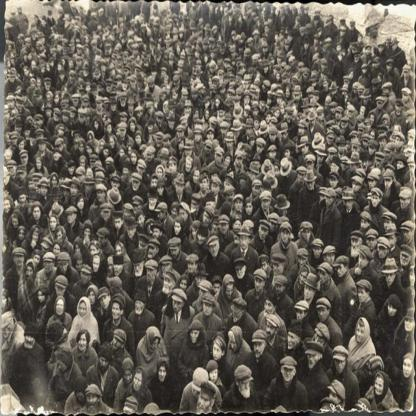face: (309, 351, 321, 368), (88, 394, 99, 412), (375, 377, 385, 396), (329, 392, 341, 407), (267, 321, 277, 339), (404, 360, 414, 378), (336, 358, 347, 374), (284, 367, 295, 382), (300, 267, 309, 285), (100, 356, 110, 372), (255, 342, 264, 359), (56, 283, 66, 298), (201, 396, 211, 411), (319, 307, 329, 322), (265, 301, 275, 316), (274, 261, 284, 276), (359, 289, 369, 304), (113, 304, 122, 320), (358, 324, 366, 342), (289, 333, 298, 349), (135, 301, 145, 315), (173, 299, 183, 313), (191, 330, 201, 344), (241, 381, 251, 395), (209, 371, 219, 385), (405, 319, 415, 333), (134, 373, 142, 390), (214, 344, 222, 361), (352, 239, 361, 254), (316, 332, 325, 347), (58, 360, 68, 373), (360, 253, 368, 269), (26, 332, 35, 346), (57, 299, 64, 317), (101, 295, 110, 309), (211, 243, 220, 257), (386, 273, 395, 287), (372, 194, 381, 208), (80, 303, 88, 318), (255, 277, 263, 292), (306, 285, 314, 300), (401, 252, 409, 267), (404, 228, 412, 243), (160, 366, 167, 382), (80, 337, 88, 351), (165, 278, 173, 292), (89, 291, 97, 305), (93, 258, 101, 272), (77, 392, 85, 406), (200, 287, 208, 301), (204, 302, 212, 316), (230, 339, 238, 353), (388, 303, 396, 317), (385, 218, 393, 232), (389, 234, 397, 248), (241, 236, 249, 250), (180, 209, 188, 223), (234, 311, 244, 322), (82, 272, 90, 285), (125, 370, 133, 383), (226, 284, 234, 297), (114, 337, 121, 351), (362, 217, 369, 231), (304, 229, 311, 243), (235, 220, 242, 234), (38, 291, 46, 303), (150, 246, 158, 258), (188, 261, 196, 273), (297, 309, 305, 321), (321, 272, 329, 284), (327, 254, 335, 266), (263, 199, 271, 211), (260, 227, 268, 239), (235, 200, 243, 212), (115, 220, 123, 232), (175, 222, 182, 235), (60, 264, 69, 274), (16, 255, 24, 266), (46, 263, 54, 274), (115, 265, 123, 276), (197, 277, 205, 288), (339, 267, 347, 278), (270, 222, 278, 233), (220, 222, 228, 233), (34, 209, 42, 220), (411, 269, 416, 286), (27, 267, 34, 279), (129, 227, 136, 239), (140, 242, 147, 254), (261, 261, 268, 273), (277, 282, 284, 294), (380, 247, 387, 259), (401, 198, 408, 210), (346, 198, 353, 210), (282, 232, 289, 244), (247, 203, 254, 215), (212, 183, 219, 195), (194, 171, 200, 185), (193, 227, 200, 239), (125, 209, 132, 221), (237, 269, 246, 278), (172, 249, 180, 259), (353, 183, 361, 193), (330, 178, 338, 188), (253, 186, 261, 196), (103, 211, 111, 221), (153, 338, 160, 349), (34, 255, 41, 266), (136, 263, 143, 274), (92, 246, 99, 257), (54, 245, 61, 256), (100, 236, 107, 247), (369, 181, 376, 192), (201, 180, 208, 191), (199, 234, 206, 245), (177, 183, 184, 194), (71, 185, 78, 196), (133, 180, 140, 191), (98, 191, 105, 202), (161, 157, 168, 168), (148, 270, 154, 282), (163, 265, 171, 274), (117, 245, 123, 257), (299, 257, 307, 266), (307, 181, 315, 190), (79, 198, 85, 210), (4, 201, 10, 213), (42, 245, 49, 255), (385, 180, 392, 190), (398, 161, 405, 171), (41, 186, 48, 196), (20, 196, 27, 206), (33, 179, 40, 189), (134, 204, 141, 214), (251, 172, 258, 182), (37, 134, 44, 144), (253, 161, 260, 171), (1, 295, 8, 305), (97, 181, 104, 191), (154, 228, 160, 239), (33, 231, 39, 242), (77, 259, 83, 270), (182, 280, 188, 291), (215, 283, 221, 294), (299, 173, 305, 184), (397, 136, 403, 147), (159, 212, 165, 223), (3, 327, 9, 338), (108, 260, 113, 273), (32, 91, 37, 104), (9, 167, 17, 175), (326, 197, 333, 206), (308, 163, 315, 172), (193, 202, 200, 211), (68, 214, 75, 223), (86, 185, 93, 194), (19, 172, 26, 181), (207, 202, 214, 211), (78, 174, 85, 183), (6, 154, 13, 163), (57, 232, 63, 242), (315, 248, 321, 258), (369, 239, 375, 249), (332, 164, 338, 174), (282, 206, 287, 218), (225, 181, 231, 191), (187, 161, 192, 173), (52, 177, 58, 187), (113, 180, 119, 190), (179, 140, 185, 150), (110, 139, 116, 149), (274, 166, 280, 176), (287, 112, 293, 122), (158, 138, 164, 148), (148, 225, 154, 235), (31, 136, 37, 146), (80, 114, 86, 124), (362, 161, 368, 171), (104, 28, 110, 38), (186, 149, 193, 157), (9, 100, 16, 108), (16, 126, 23, 134), (228, 194, 235, 202), (194, 385, 201, 393), (20, 230, 25, 241), (205, 212, 210, 223), (217, 153, 222, 164), (37, 160, 42, 171), (132, 154, 137, 165), (51, 223, 57, 232), (376, 159, 382, 168), (348, 110, 354, 119), (403, 94, 409, 103), (170, 164, 176, 173), (206, 146, 212, 155), (228, 141, 234, 150), (237, 157, 243, 166), (228, 173, 234, 182), (70, 167, 76, 176), (22, 157, 28, 166), (150, 199, 156, 208), (152, 179, 158, 188), (158, 169, 164, 178), (139, 167, 145, 176), (235, 129, 241, 138), (87, 146, 93, 155), (340, 145, 346, 154), (387, 150, 393, 159), (300, 126, 306, 135), (157, 117, 163, 126), (120, 129, 126, 138), (138, 219, 144, 228), (63, 114, 69, 123), (5, 112, 11, 121), (77, 59, 83, 68), (105, 55, 111, 64), (264, 66, 270, 75), (225, 61, 231, 70), (3, 177, 9, 186), (87, 170, 93, 179), (243, 150, 249, 159), (264, 188, 270, 197), (37, 43, 43, 52), (76, 246, 81, 256), (86, 228, 91, 238), (370, 115, 375, 125), (370, 146, 375, 156), (173, 209, 178, 219), (196, 133, 201, 143), (256, 120, 261, 130), (105, 148, 110, 158), (371, 131, 376, 141), (149, 152, 154, 162), (214, 223, 219, 233), (117, 128, 122, 138), (12, 222, 19, 229), (302, 148, 309, 155), (330, 153, 336, 161), (285, 151, 291, 159), (258, 146, 264, 154), (343, 162, 349, 170), (351, 164, 357, 172), (30, 201, 36, 209), (124, 168, 130, 176), (219, 111, 225, 119), (222, 128, 228, 136), (12, 138, 18, 146), (37, 120, 43, 128), (352, 137, 358, 145), (323, 82, 329, 90), (179, 131, 185, 139), (169, 121, 175, 129), (111, 103, 117, 111), (97, 103, 103, 111), (58, 144, 64, 152), (228, 93, 234, 101), (205, 102, 211, 110), (131, 80, 137, 88), (245, 97, 251, 105), (24, 70, 30, 78), (106, 48, 112, 56), (253, 109, 259, 117), (366, 123, 371, 132), (226, 157, 231, 166), (159, 186, 164, 195), (266, 114, 271, 123), (381, 139, 386, 148), (281, 106, 286, 115), (55, 96, 60, 105), (18, 101, 23, 110), (25, 131, 30, 140), (7, 137, 12, 146), (75, 137, 80, 146), (85, 69, 90, 78), (216, 100, 221, 109), (381, 132, 386, 141), (410, 164, 415, 173), (237, 76, 242, 85), (181, 51, 186, 60), (96, 56, 101, 65), (318, 156, 324, 163), (336, 113, 342, 120), (240, 178, 246, 185), (208, 134, 214, 141), (54, 153, 60, 160), (271, 135, 277, 142), (164, 139, 170, 146), (121, 100, 127, 107), (120, 150, 126, 157), (148, 107, 154, 114), (364, 98, 370, 105), (82, 30, 88, 37), (224, 78, 230, 85), (363, 141, 369, 148), (174, 180, 180, 187), (357, 176, 363, 183), (101, 65, 107, 72), (329, 137, 334, 145), (29, 183, 34, 191), (186, 108, 191, 116), (81, 159, 86, 167), (40, 143, 45, 151), (283, 132, 288, 140), (137, 137, 142, 145), (142, 151, 147, 159), (149, 125, 154, 133), (108, 126, 113, 134), (94, 123, 99, 131), (55, 112, 60, 120), (71, 111, 76, 119), (74, 99, 79, 107), (184, 94, 189, 102), (124, 56, 129, 64), (70, 74, 75, 82), (78, 48, 83, 56), (58, 65, 63, 73), (110, 70, 115, 78), (111, 34, 116, 42), (175, 82, 180, 90), (170, 59, 175, 67), (241, 67, 246, 75), (313, 71, 318, 79), (343, 122, 348, 130), (263, 85, 268, 93), (294, 87, 298, 97), (211, 65, 216, 73), (120, 24, 125, 32), (5, 32, 10, 40), (270, 151, 276, 157), (80, 144, 84, 153), (101, 142, 105, 151), (103, 114, 107, 123), (91, 162, 97, 168), (161, 95, 167, 101), (206, 111, 210, 120), (262, 101, 266, 110), (125, 71, 131, 77), (41, 68, 47, 74), (327, 100, 331, 109), (352, 147, 358, 153), (63, 189, 69, 195), (256, 85, 260, 94), (254, 95, 260, 101), (303, 99, 309, 105), (230, 45, 236, 51), (63, 100, 67, 109), (397, 106, 402, 113), (378, 103, 383, 110), (319, 114, 324, 121), (20, 144, 25, 151), (46, 83, 51, 90), (315, 95, 320, 102), (296, 94, 301, 101), (311, 119, 316, 126), (275, 111, 280, 118), (250, 139, 255, 146), (211, 123, 216, 130), (138, 112, 143, 119), (89, 136, 94, 143), (47, 111, 52, 118), (47, 95, 52, 102), (84, 101, 89, 108), (173, 93, 178, 100), (359, 92, 364, 99), (388, 65, 393, 72), (404, 71, 409, 78), (37, 82, 42, 89), (136, 69, 141, 76), (71, 45, 76, 52), (69, 62, 74, 69), (28, 42, 33, 49), (58, 46, 63, 53), (179, 67, 184, 74), (134, 49, 139, 56), (196, 51, 201, 58), (291, 62, 296, 69), (409, 152, 414, 159), (369, 162, 374, 169), (328, 128, 333, 135), (54, 197, 59, 204), (292, 107, 297, 114), (253, 58, 258, 65), (197, 61, 202, 68), (179, 60, 184, 67), (167, 42, 172, 49), (123, 84, 128, 91), (287, 90, 291, 98), (129, 149, 133, 157), (60, 128, 64, 136), (165, 106, 169, 114), (350, 72, 354, 80), (32, 62, 36, 70), (29, 53, 33, 61), (92, 44, 96, 52), (155, 27, 159, 35), (277, 74, 281, 82), (205, 57, 209, 65), (404, 149, 408, 157), (221, 47, 225, 55), (196, 67, 200, 75), (304, 108, 309, 114), (285, 172, 290, 178), (213, 174, 218, 180), (130, 106, 135, 112), (149, 84, 155, 89), (221, 88, 226, 94), (278, 57, 283, 63), (384, 89, 389, 95), (60, 179, 65, 185), (263, 133, 268, 139), (248, 128, 253, 134), (409, 116, 414, 122), (321, 72, 326, 78), (408, 60, 413, 66), (341, 31, 346, 37), (286, 45, 291, 51), (263, 49, 268, 55), (254, 31, 260, 36), (209, 42, 214, 48), (218, 60, 223, 66), (196, 124, 202, 129), (169, 53, 175, 58), (113, 54, 118, 60), (81, 92, 86, 98), (61, 75, 66, 81), (37, 96, 43, 101), (40, 37, 45, 43), (76, 19, 81, 25), (42, 48, 47, 54), (184, 87, 189, 93), (332, 107, 336, 114), (361, 110, 365, 117), (310, 93, 314, 100), (131, 124, 135, 131), (122, 117, 126, 124), (108, 86, 112, 93), (368, 48, 372, 55), (48, 66, 52, 73), (33, 33, 37, 40), (24, 55, 28, 62), (165, 79, 169, 86), (177, 47, 181, 54), (180, 32, 184, 39), (163, 71, 167, 78), (143, 28, 147, 35), (384, 121, 388, 128), (358, 121, 362, 128), (374, 86, 378, 93), (380, 46, 384, 53), (3, 246, 7, 253), (187, 181, 191, 188), (246, 111, 250, 118), (298, 115, 302, 122), (250, 73, 254, 80), (225, 7, 229, 14), (209, 79, 213, 86), (197, 111, 201, 118), (142, 53, 146, 60), (42, 104, 46, 111), (9, 46, 13, 53), (11, 76, 15, 83), (200, 110, 203, 119), (363, 69, 368, 74), (355, 56, 360, 61), (251, 93, 256, 98), (290, 56, 295, 61), (274, 69, 279, 74), (246, 55, 251, 60), (235, 101, 240, 106), (211, 92, 216, 97), (200, 90, 205, 95), (193, 94, 198, 99), (174, 34, 179, 39), (174, 29, 179, 34), (147, 101, 152, 106), (64, 98, 69, 103), (278, 98, 282, 104), (105, 103, 109, 109), (376, 63, 380, 69), (32, 82, 36, 88), (19, 8, 23, 14), (151, 43, 155, 49), (360, 131, 364, 137), (394, 45, 398, 51), (388, 43, 392, 49), (166, 177, 170, 183), (300, 66, 304, 72), (305, 43, 309, 49), (282, 16, 286, 22), (271, 59, 275, 65), (262, 37, 266, 43), (212, 100, 216, 106), (204, 45, 208, 51), (193, 30, 197, 36), (186, 47, 190, 53), (144, 57, 148, 63), (130, 60, 134, 66), (122, 39, 126, 45), (112, 60, 116, 66), (117, 79, 121, 85), (141, 101, 145, 107), (96, 69, 100, 75), (94, 87, 98, 93), (99, 84, 103, 90), (80, 77, 84, 83), (99, 32, 103, 38), (21, 63, 25, 69), (8, 62, 11, 69), (20, 38, 23, 45), (43, 21, 46, 28), (396, 127, 399, 134), (372, 48, 375, 55), (346, 145, 349, 152), (346, 97, 349, 104), (259, 55, 262, 62), (138, 23, 141, 30), (134, 94, 137, 101), (354, 89, 358, 94), (333, 90, 337, 95), (238, 95, 242, 100), (304, 75, 308, 80), (305, 121, 309, 126), (326, 43, 330, 48), (328, 21, 332, 26), (281, 9, 285, 14), (288, 36, 292, 41), (280, 34, 284, 39), (265, 60, 269, 65), (249, 9, 253, 14), (256, 18, 260, 23), (231, 81, 235, 86), (214, 29, 218, 34), (214, 82, 218, 87), (167, 31, 171, 36), (141, 17, 145, 22), (120, 17, 124, 22), (62, 60, 66, 65), (70, 88, 74, 93), (76, 39, 80, 44), (33, 27, 37, 32), (315, 107, 318, 113), (343, 91, 346, 97), (5, 191, 8, 197), (296, 144, 299, 150), (272, 122, 275, 128), (231, 109, 234, 115), (268, 100, 271, 106), (323, 64, 326, 70), (361, 51, 364, 57), (359, 37, 362, 43), (286, 77, 289, 83), (276, 35, 279, 41), (266, 27, 269, 33), (255, 36, 258, 42), (258, 72, 261, 78), (233, 35, 236, 41), (239, 16, 242, 22), (246, 13, 249, 19), (219, 21, 222, 27), (208, 69, 211, 75), (232, 5, 235, 11), (198, 44, 201, 50), (144, 46, 147, 52), (158, 45, 161, 51), (158, 57, 161, 63), (137, 57, 140, 63), (128, 81, 131, 87), (145, 79, 148, 85), (52, 62, 55, 68), (64, 43, 67, 49), (12, 59, 15, 65), (283, 78, 287, 82), (352, 49, 356, 53), (342, 25, 346, 29), (315, 22, 319, 26), (315, 60, 319, 64), (269, 19, 273, 23), (249, 43, 253, 47), (232, 53, 236, 57), (193, 3, 197, 7), (218, 37, 222, 41), (131, 35, 135, 39), (118, 61, 122, 65), (116, 46, 120, 50), (64, 88, 68, 92), (40, 60, 44, 64), (53, 54, 57, 58), (60, 35, 64, 39), (411, 137, 414, 142), (244, 84, 247, 89), (340, 56, 343, 61), (373, 37, 376, 42), (352, 26, 355, 31), (325, 45, 328, 50), (315, 39, 318, 44), (319, 31, 322, 36), (302, 32, 305, 37), (293, 10, 296, 15), (295, 36, 298, 41), (270, 66, 273, 71), (260, 60, 263, 65), (253, 67, 256, 72), (258, 7, 261, 12), (231, 62, 236, 65), (240, 49, 243, 54), (220, 73, 223, 78), (193, 46, 196, 51), (165, 55, 168, 60), (170, 23, 173, 28), (155, 9, 158, 14), (159, 39, 162, 44), (131, 43, 134, 48), (120, 34, 123, 39), (116, 29, 119, 34), (123, 7, 126, 12), (116, 51, 119, 56), (146, 43, 149, 48), (153, 72, 156, 77), (87, 50, 90, 55), (88, 86, 91, 91), (57, 40, 60, 45), (100, 12, 103, 17), (191, 80, 194, 85), (345, 81, 348, 85), (379, 78, 382, 82), (293, 81, 296, 85), (343, 52, 346, 56), (348, 50, 351, 54), (307, 30, 310, 34), (305, 10, 308, 14), (302, 9, 305, 13), (286, 6, 289, 10), (277, 46, 280, 50), (258, 22, 261, 26), (264, 8, 266, 14), (229, 72, 233, 75), (230, 12, 234, 15), (218, 43, 221, 47), (195, 85, 198, 89), (201, 26, 204, 30), (175, 18, 178, 22), (136, 26, 139, 30), (132, 29, 135, 33), (148, 54, 151, 58), (158, 22, 161, 26), (151, 37, 154, 41), (72, 19, 75, 23), (60, 14, 63, 18), (35, 17, 38, 21), (100, 44, 103, 48), (66, 20, 69, 24), (93, 31, 96, 35), (75, 9, 78, 13), (12, 15, 15, 19), (16, 58, 19, 62), (221, 7, 223, 12), (129, 10, 131, 15), (338, 47, 341, 50), (273, 11, 276, 14), (231, 88, 234, 91), (237, 7, 240, 10), (216, 8, 219, 11), (221, 66, 224, 69), (207, 32, 210, 35), (183, 46, 186, 49), (168, 28, 171, 31), (176, 23, 179, 26), (181, 21, 184, 24), (180, 14, 183, 17), (152, 21, 155, 24), (132, 23, 135, 26), (139, 43, 142, 46), (109, 26, 112, 29), (52, 40, 55, 43), (98, 26, 101, 29), (254, 15, 256, 19), (276, 90, 278, 94), (239, 64, 241, 68), (243, 39, 245, 43), (194, 67, 196, 71), (198, 23, 200, 27), (165, 11, 167, 15), (111, 22, 113, 26), (287, 30, 289, 33), (288, 71, 290, 74), (237, 42, 239, 45), (170, 14, 172, 17), (184, 17, 186, 20), (156, 55, 158, 58), (50, 17, 53, 19), (283, 68, 285, 70), (297, 20, 298, 23), (261, 53, 262, 55), (293, 350, 294, 351)
